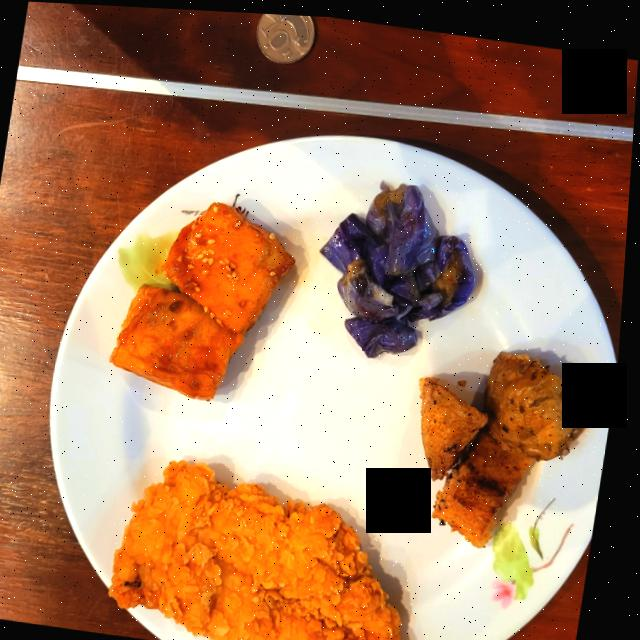coin: (255, 11, 314, 60)
creamy tofu: (114, 200, 297, 397)
fried chicken cutlet: (116, 458, 408, 640)
fried potato: (423, 346, 597, 541)
